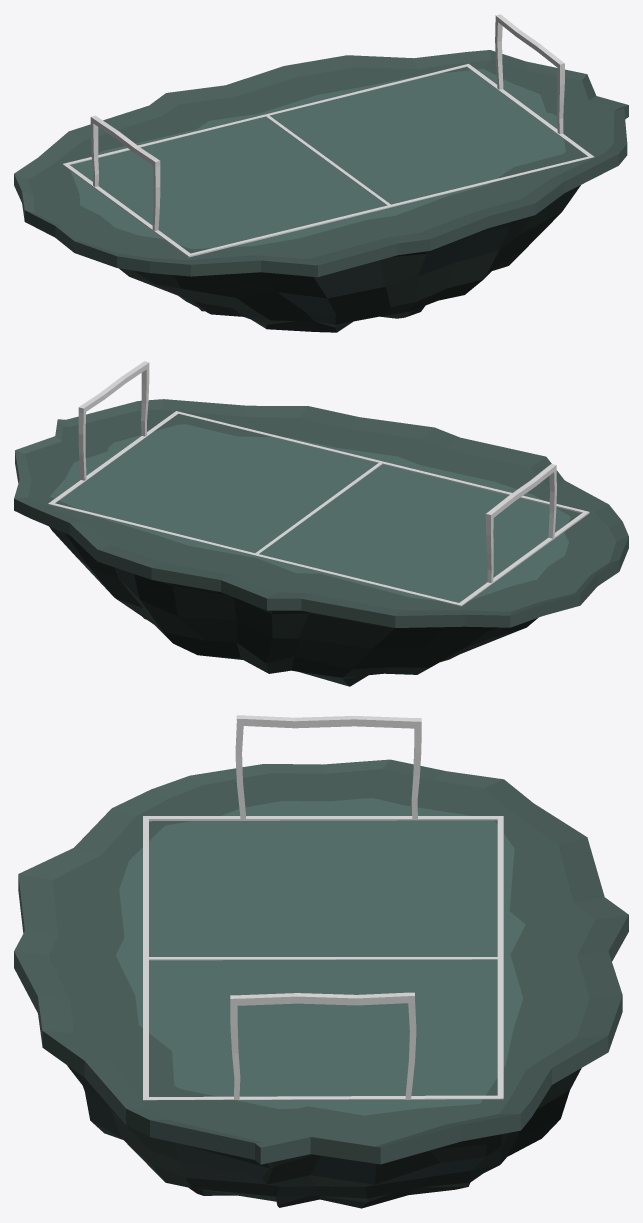
The model's file is rabbit14.glb.
The picture shows the model from 3 angles, top to bottom: view 1: azimuth 30°, elevation 25°; view 2: azimuth 150°, elevation 25°; view 3: azimuth 270°, elevation 25°; orthographic projection. The views are drawn at different scales.
Visible parts, largest first — view 1: Circle, Cube, Cube.002, Cube.001; view 2: Circle, Cube, Cube.002, Cube.001; view 3: Circle, Cube, Cube.002, Cube.001.
Part boxes in pixels (x1,y1,x2,y2): Circle: [14, 50, 628, 332]; Cube: [62, 63, 594, 257]; Cube.002: [495, 14, 564, 133]; Cube.001: [90, 115, 160, 230]; Circle: [14, 399, 628, 686]; Cube: [48, 411, 589, 606]; Cube.002: [78, 361, 149, 480]; Cube.001: [485, 464, 556, 582]; Circle: [14, 759, 628, 1208]; Cube: [143, 816, 503, 1100]; Cube.002: [230, 992, 416, 1100]; Cube.001: [235, 715, 421, 820].
Bounding box in the file's own units: 43.79 × 14.76 × 29.11.
